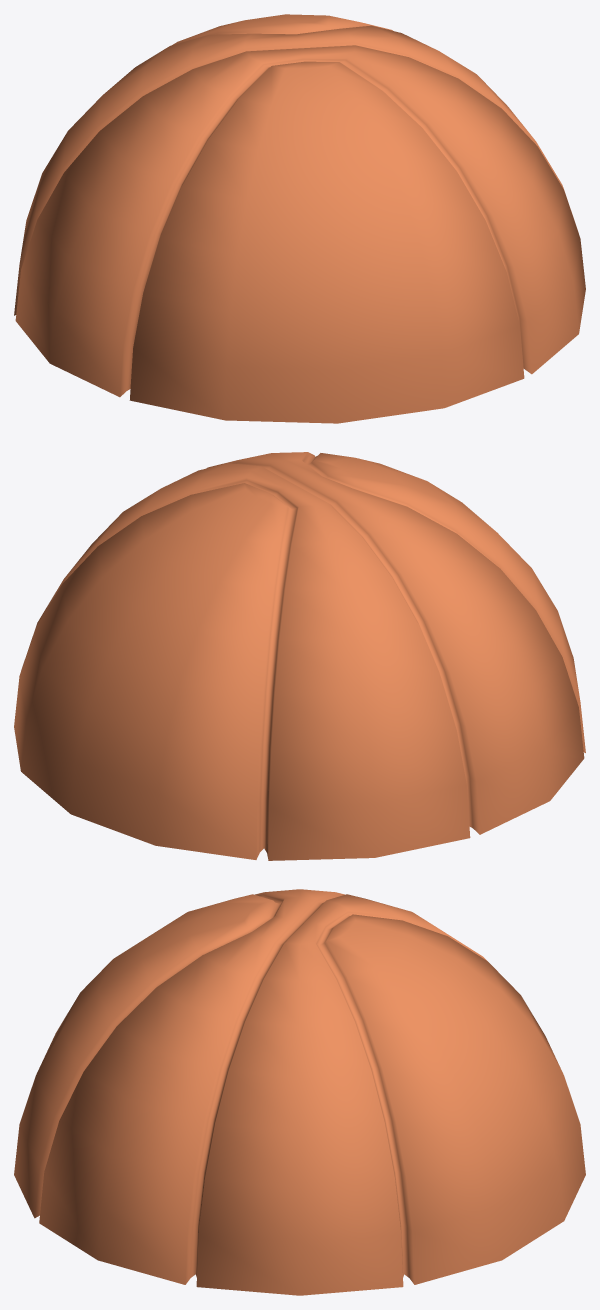
The model's file is basketball1.glb.
3 views of the same model, one above another, from view 1: azimuth 30°, elevation 25°; view 2: azimuth 150°, elevation 25°; view 3: azimuth 270°, elevation 25° (orthographic).
Parts seen in each view (by area): view 1: Sphere; view 2: Sphere; view 3: Sphere.
Boxes of the visible parts, x1,y1,x2,y2 form: Sphere: (14,14,585,423); Sphere: (14,452,585,860); Sphere: (14,889,585,1295).
Size of the model in its own units: 1 by 0.4918 by 1.
